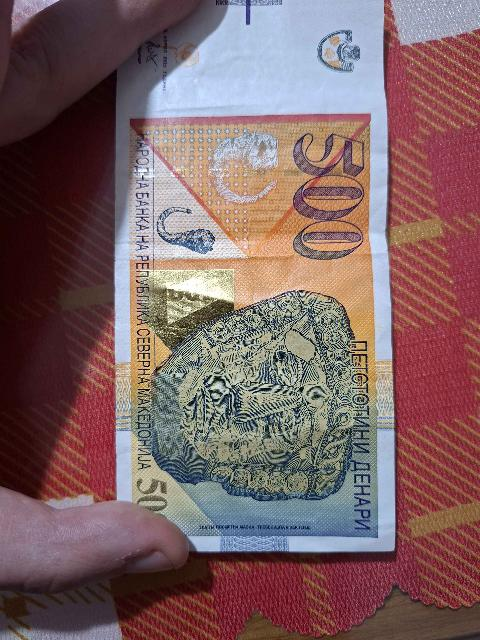500_note: (111, 0, 397, 558)
